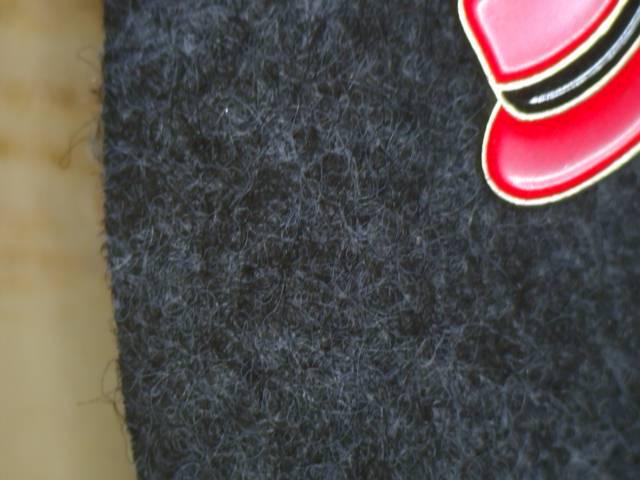Red-Hat: (432, 0, 640, 231)
